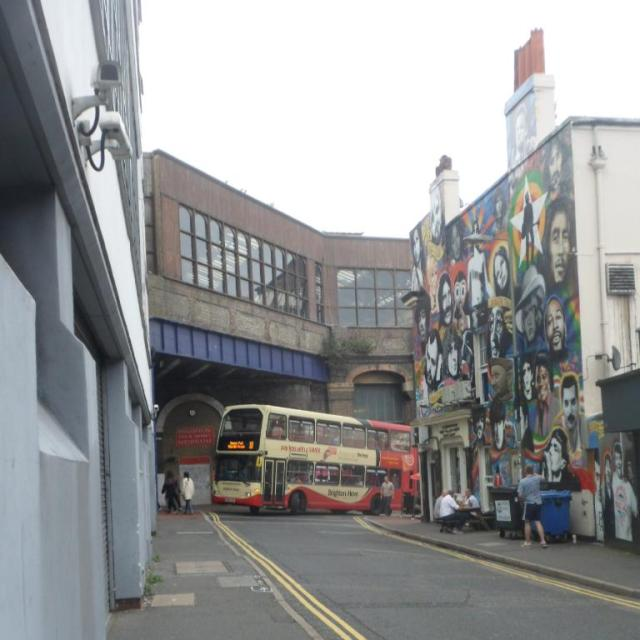Buses: (210, 406, 419, 518)
Pedestrians: (516, 461, 546, 550), (160, 470, 180, 516), (183, 470, 194, 517)
